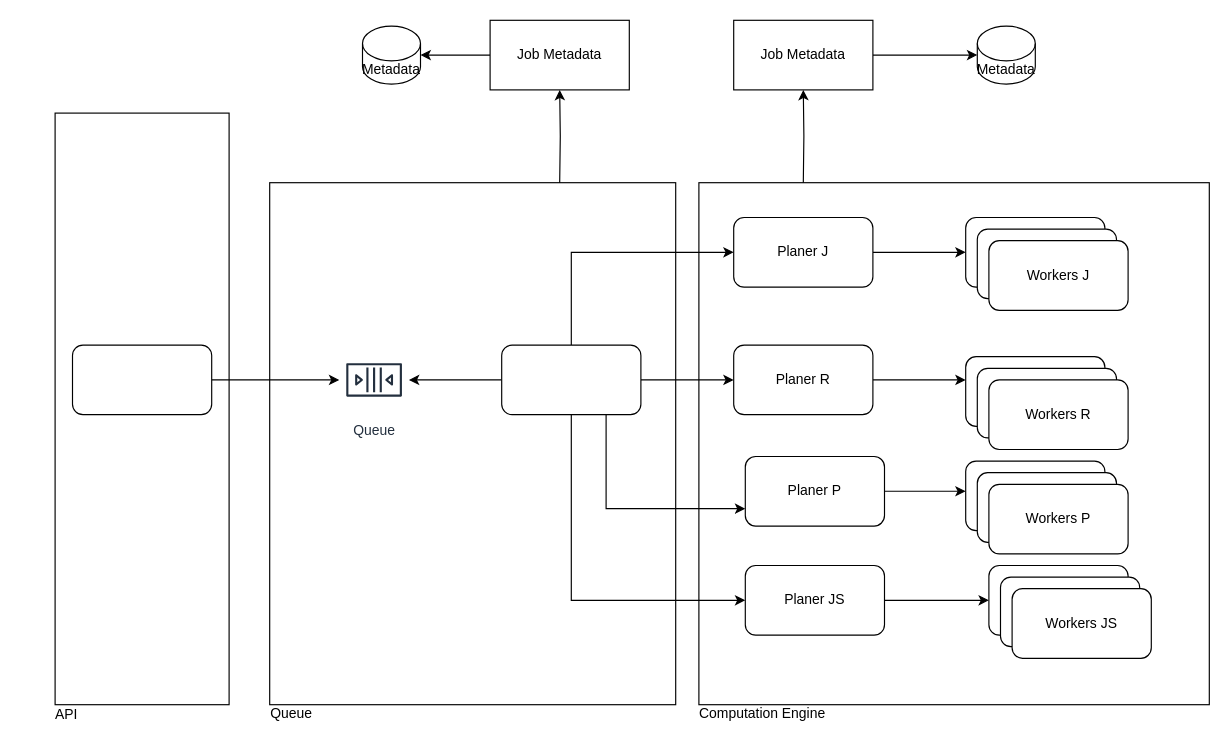
Image size: 1230x753. Some labels were removed from this diagram. Each missing label, with the centre of its shape:
Executor: the point at 141,379
Router: the point at 571,379
